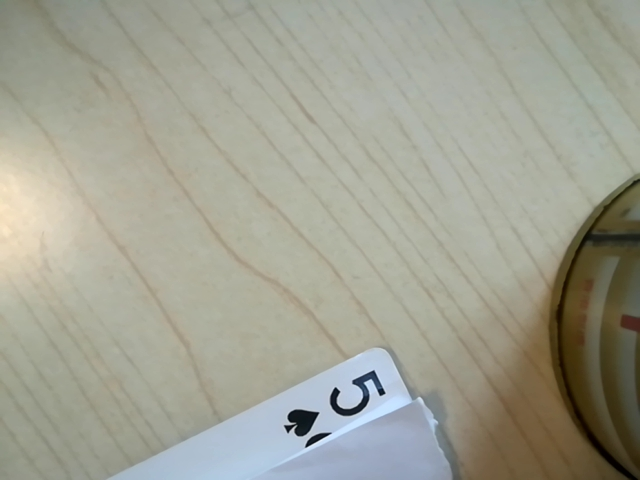ht 5: (266, 365, 410, 447)
